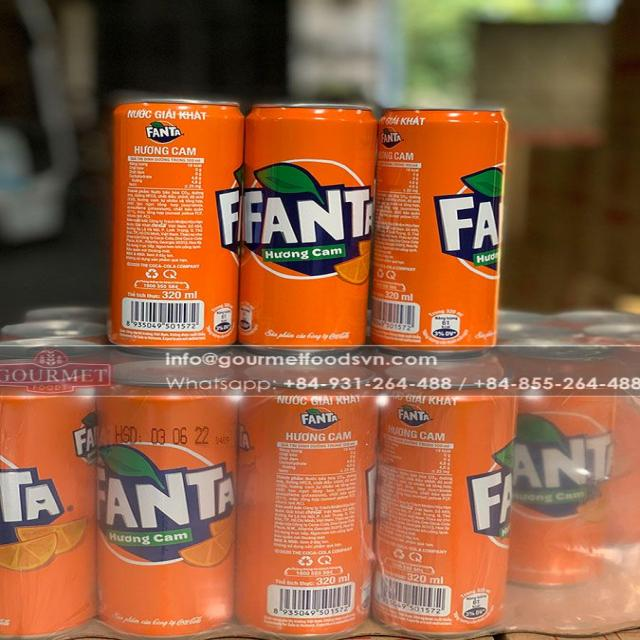fanta: (96, 391, 245, 635), (114, 93, 249, 340), (367, 104, 501, 346), (237, 97, 364, 350), (249, 393, 375, 635), (385, 398, 516, 628), (0, 378, 100, 625), (525, 391, 634, 573)
